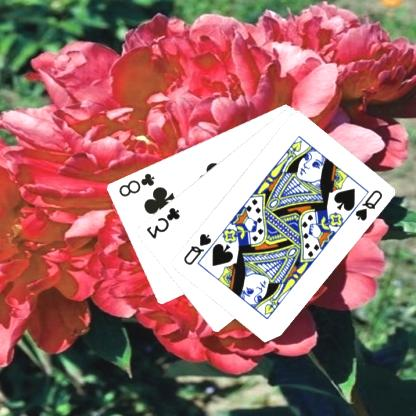3C: (145, 204, 183, 240)
8C: (118, 170, 158, 198)
QS: (353, 187, 385, 223), (183, 231, 214, 266)
